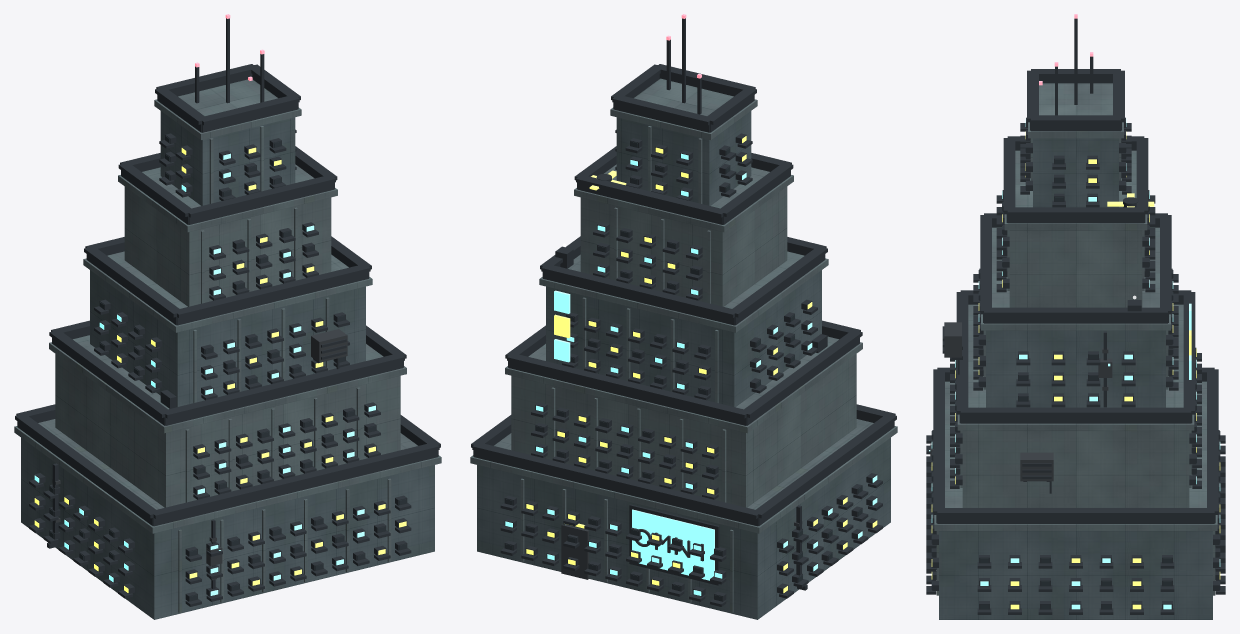
Rendered from synthwave-mega-zigg.glb.
The picture shows the model from 3 angles, left to right: view 1: azimuth 30°, elevation 25°; view 2: azimuth 150°, elevation 25°; view 3: azimuth 270°, elevation 25°; orthographic projection. The views are drawn at different scales.
Parts seen in each view (by area): view 1: MegaZigg_Body2, MegaZigg_Frame, MegaZigg_Body, MegaZigg_PaneOff, MegaZigg_Door, MegaZigg_PaneBDim, MegaZigg_PaneADim, MegaZigg_PaneAHot, MegaZigg_PaneB; view 2: MegaZigg_Frame, MegaZigg_Body2, MegaZigg_Body, ZigAdPanel, MegaZigg_PaneOff, MegaZigg_Door, MegaZigg_PaneBDim, MegaZigg_PaneADim, MegaZigg_DimB, MegaZigg_PaneB, MegaZigg_PaneAHot; view 3: MegaZigg_Frame, MegaZigg_Body2, MegaZigg_Body, MegaZigg_Door, MegaZigg_PaneOff, MegaZigg_PaneADim, MegaZigg_PaneBDim.
Boxes of the visible parts, left/top/right/bottom form: MegaZigg_Body2: left=14, top=79, right=441, bottom=613; MegaZigg_Frame: left=15, top=64, right=440, bottom=606; MegaZigg_Body: left=21, top=111, right=434, bottom=619; MegaZigg_PaneOff: left=49, top=136, right=406, bottom=600; MegaZigg_Door: left=52, top=329, right=347, bottom=580; MegaZigg_PaneBDim: left=34, top=153, right=364, bottom=582; MegaZigg_PaneADim: left=34, top=148, right=406, bottom=592; MegaZigg_PaneAHot: left=64, top=147, right=385, bottom=575; MegaZigg_PaneB: left=64, top=172, right=375, bottom=595; MegaZigg_Frame: left=471, top=64, right=896, bottom=606; MegaZigg_Body2: left=470, top=78, right=897, bottom=613; MegaZigg_Body: left=477, top=111, right=890, bottom=619; ZigAdPanel: left=632, top=509, right=714, bottom=580; MegaZigg_PaneOff: left=505, top=141, right=862, bottom=600; MegaZigg_Door: left=561, top=521, right=802, bottom=579; MegaZigg_PaneBDim: left=547, top=153, right=877, bottom=595; MegaZigg_PaneADim: left=547, top=136, right=877, bottom=592; MegaZigg_DimB: left=554, top=290, right=570, bottom=362; MegaZigg_PaneB: left=505, top=160, right=877, bottom=578; MegaZigg_PaneAHot: left=526, top=147, right=847, bottom=557; MegaZigg_Frame: left=926, top=69, right=1225, bottom=614; MegaZigg_Body2: left=934, top=83, right=1217, bottom=595; MegaZigg_Body: left=939, top=138, right=1212, bottom=619; MegaZigg_Door: left=930, top=322, right=1112, bottom=481; MegaZigg_PaneOff: left=931, top=144, right=1220, bottom=609; MegaZigg_PaneADim: left=931, top=159, right=1220, bottom=609; MegaZigg_PaneBDim: left=931, top=119, right=1220, bottom=609.
Bounding box in the file's own units: 1.83 × 3.02 × 1.53.
16 materials, 2 textured.
